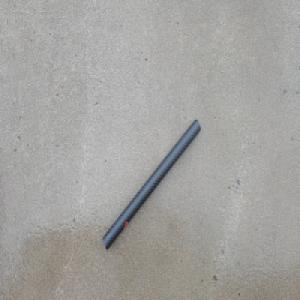LuggagePart: (101, 118, 200, 252)
